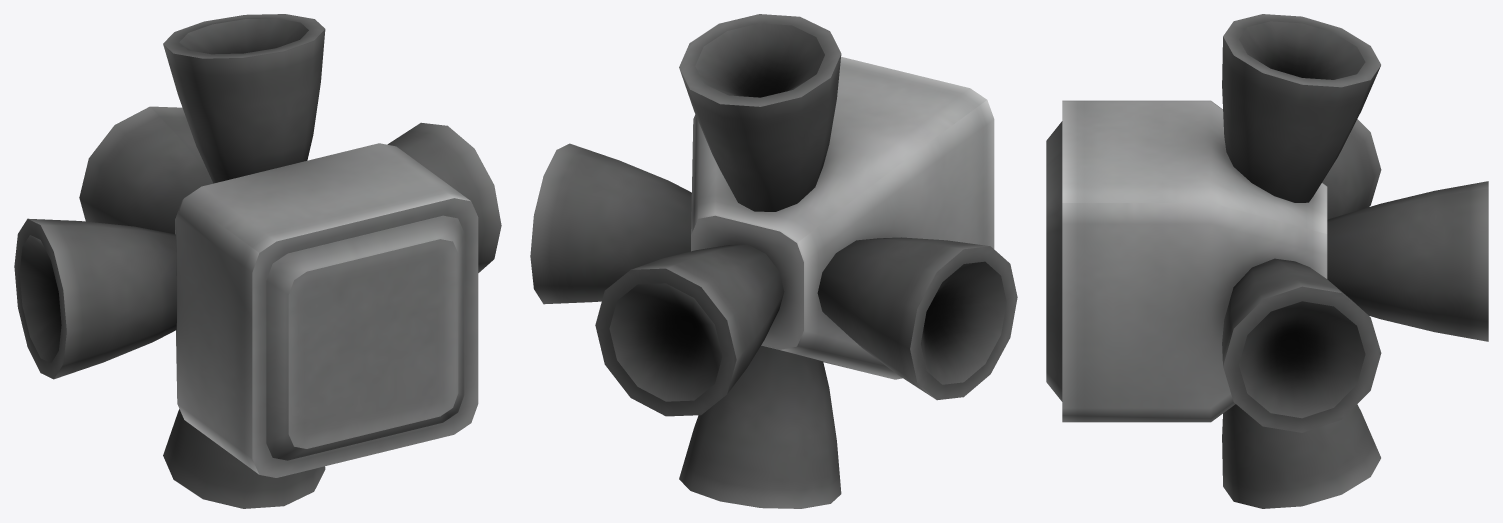
Rendered from Tantares_RCS_1_E.obj.
3 views of the same model, side by side, from view 1: azimuth 30°, elevation 25°; view 2: azimuth 150°, elevation 25°; view 3: azimuth 270°, elevation 25° (orthographic).
Parts seen in each view (by area): view 1: Tantares_RCS_1_E; view 2: Tantares_RCS_1_E; view 3: Tantares_RCS_1_E.
Part boxes in pixels (box(x1,y1,x2,y2)): Tantares_RCS_1_E: box(14, 14, 501, 508); Tantares_RCS_1_E: box(530, 14, 1017, 508); Tantares_RCS_1_E: box(1046, 14, 1488, 508).
Size of the model in its own units: 0.1923 by 0.1923 by 0.1712.
